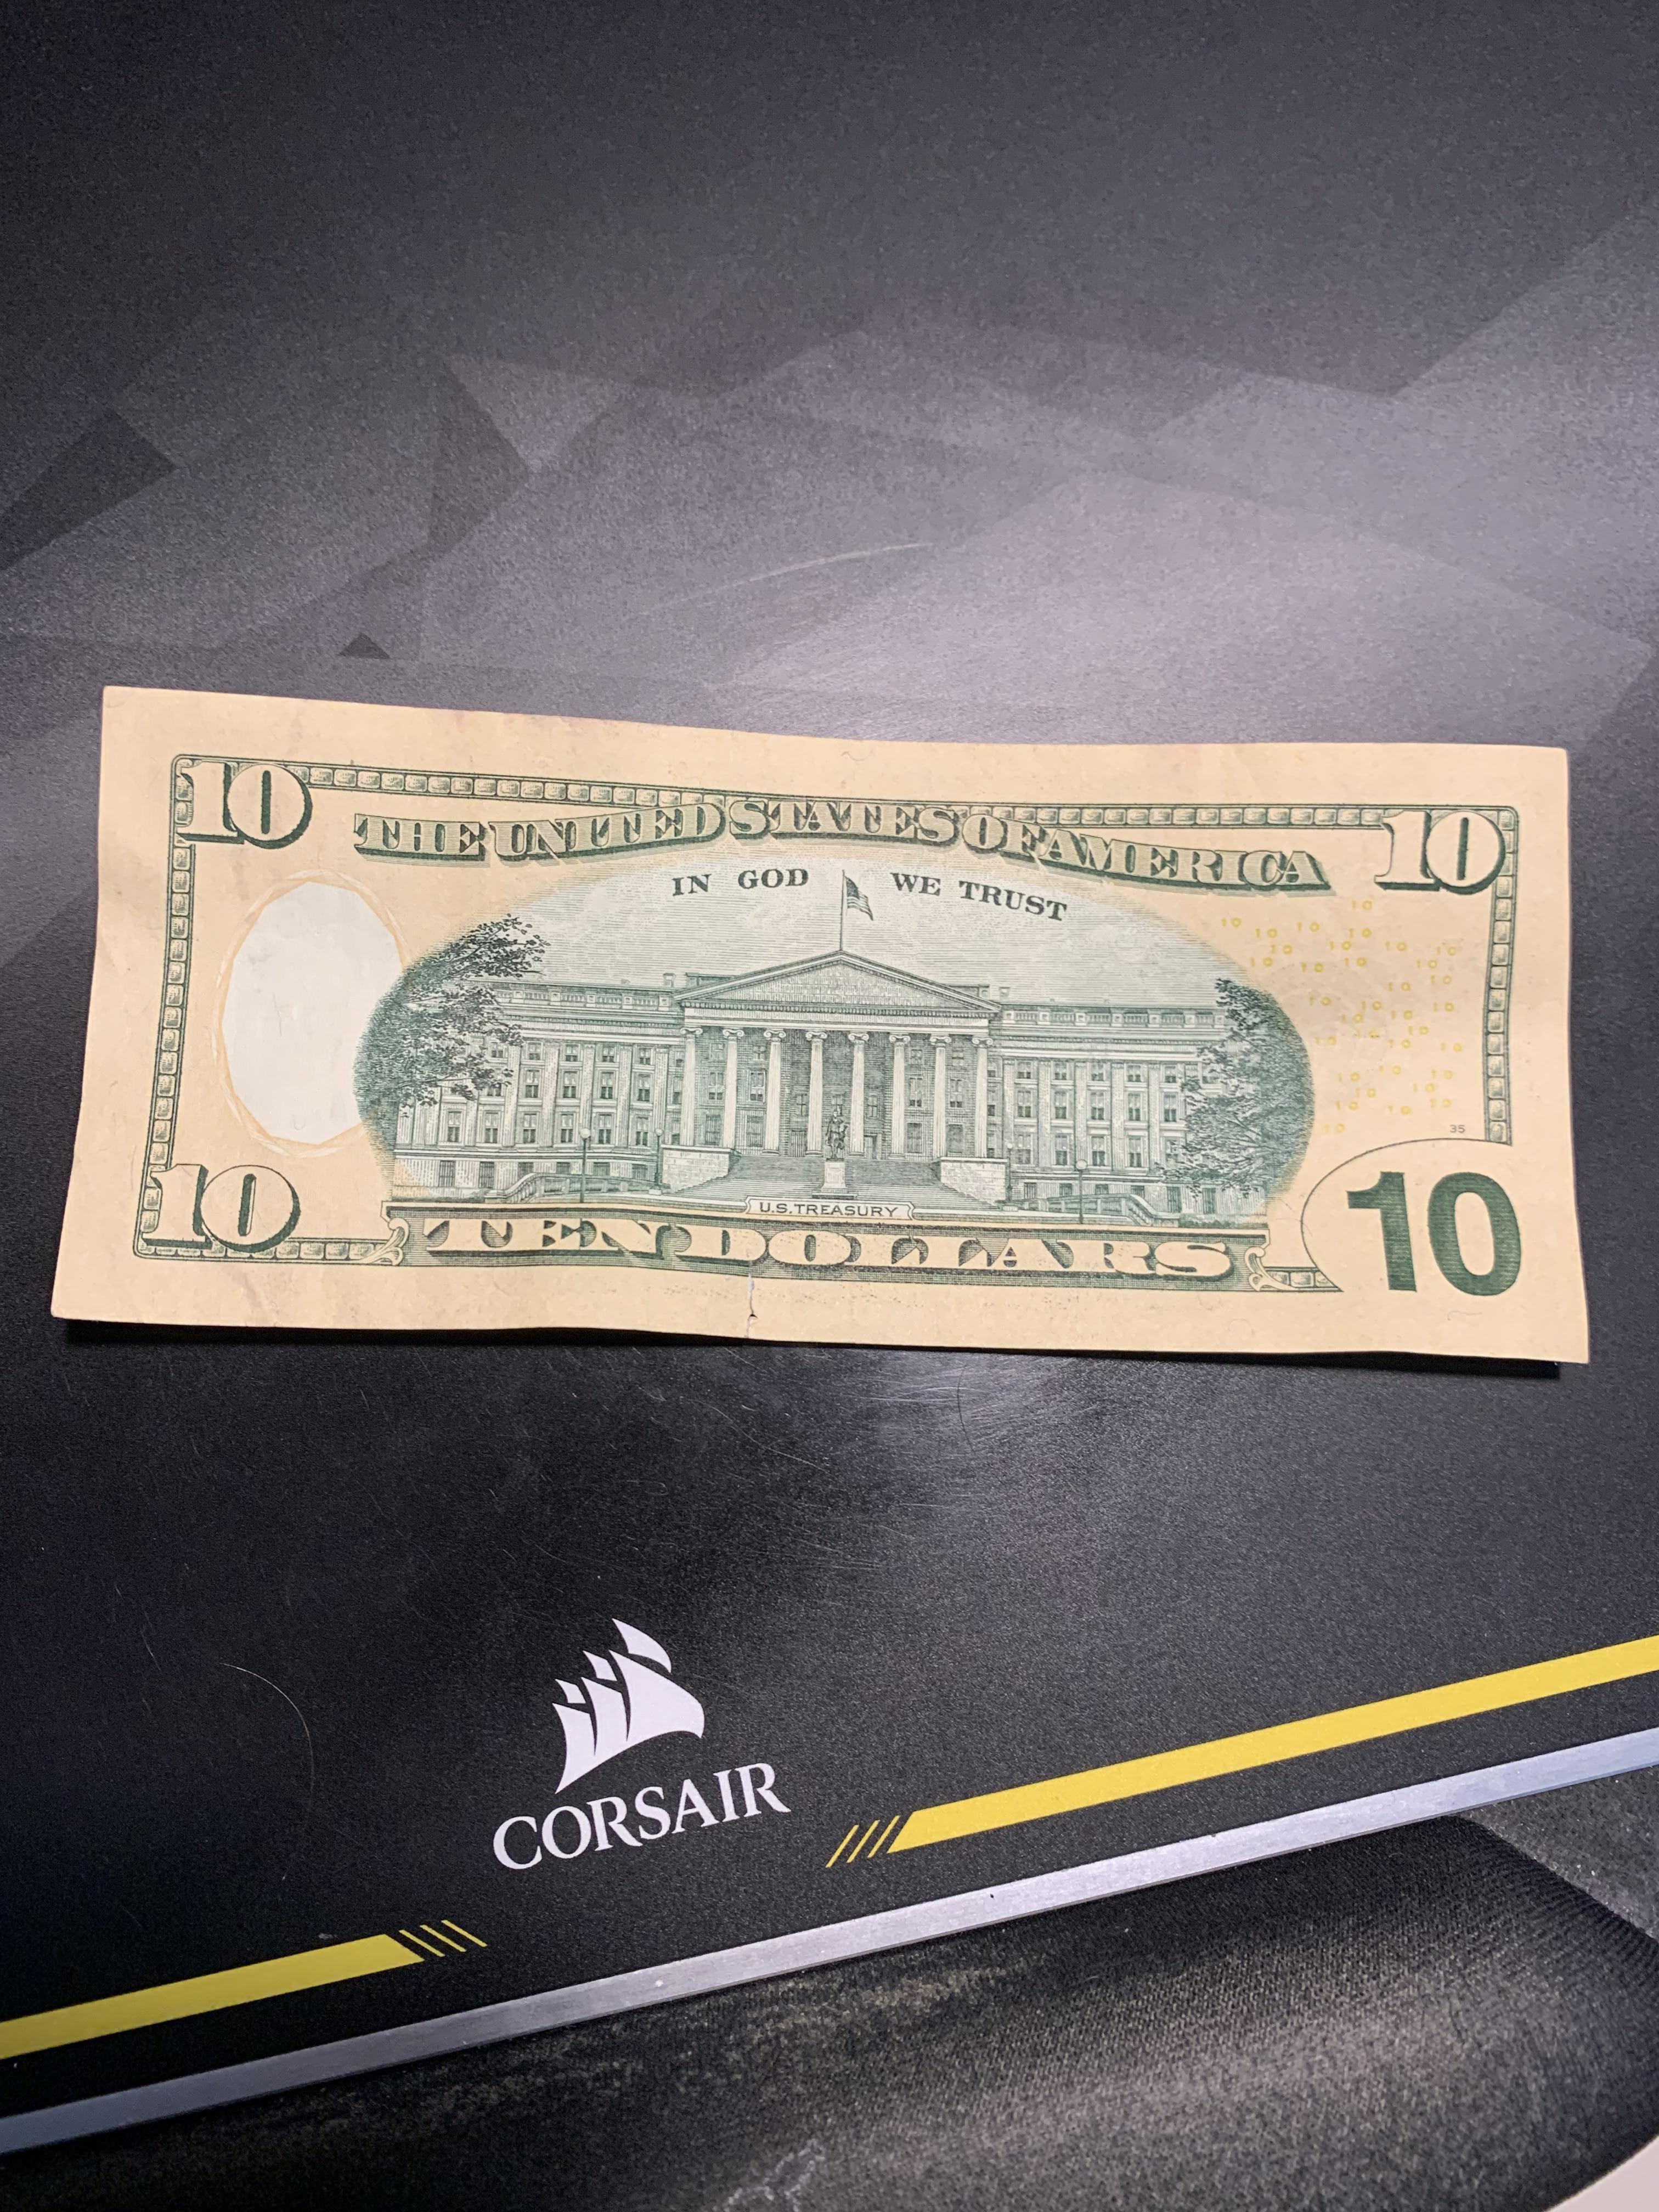TenBill: (24, 655, 1598, 1381)
